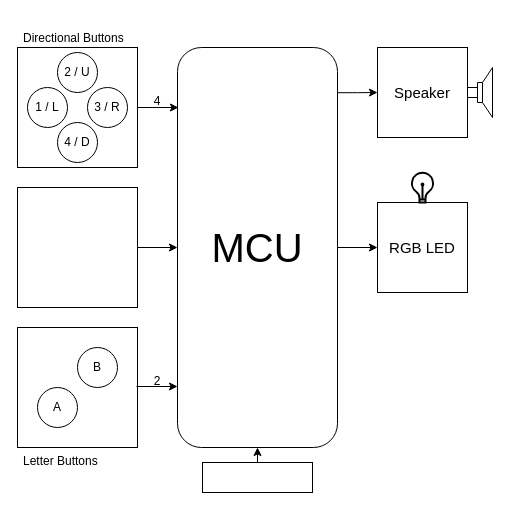
The diagram is 510 pixels wide and 510 high, and some of its shapes have lost their labels. Each missing label, with the centre of its shape:
Game Cartridge: (77,247)
Power Switch: (257,477)
